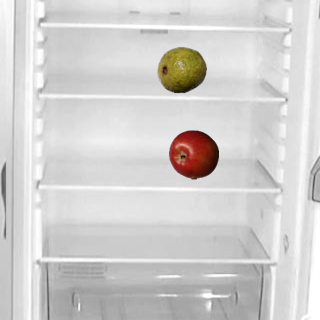Apple Braeburn: (168, 129, 218, 179)
Guava: (156, 44, 206, 94)
